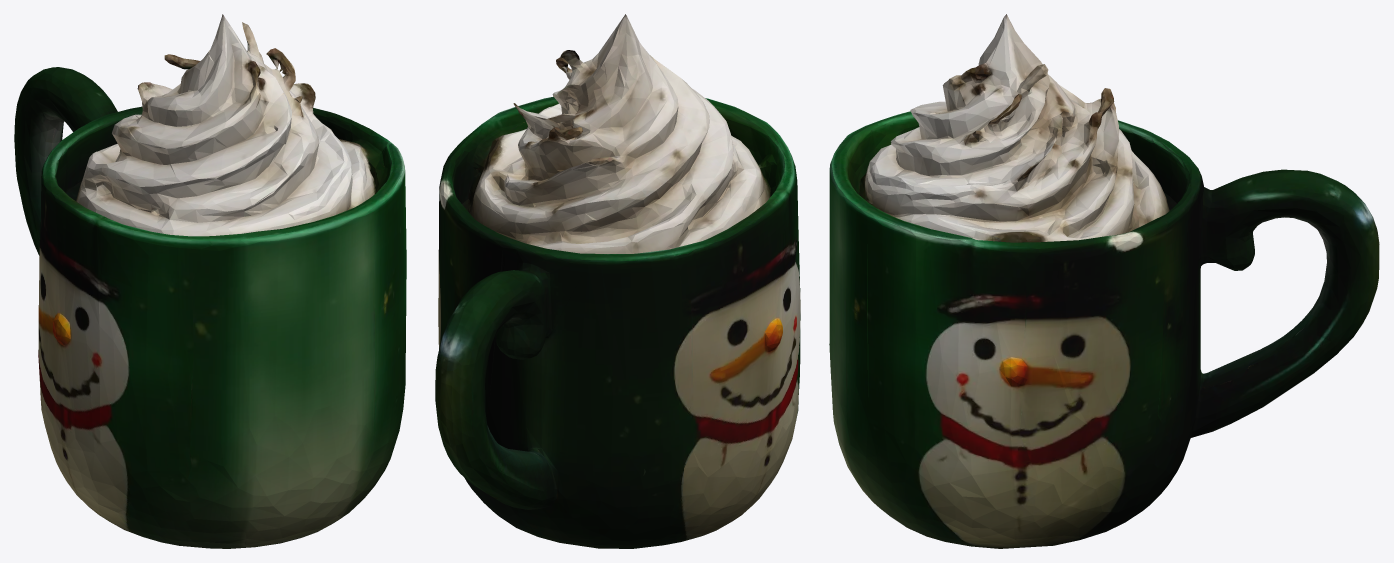
The model's file is snowy-cocoa-mug.glb.
3 renders of one model, left to right at view 1: azimuth 30°, elevation 25°; view 2: azimuth 150°, elevation 25°; view 3: azimuth 270°, elevation 25°, orthographic.
Visible parts, largest first — view 1: world; view 2: world; view 3: world.
Boxes of the visible parts, x1=… form: world: x1=14, y1=14, x2=406, y2=548; world: x1=435, y1=14, x2=800, y2=548; world: x1=829, y1=14, x2=1379, y2=548.
Size of the model in its own units: 0.6794 by 0.967 by 0.999.
1 material, 1 textured.
